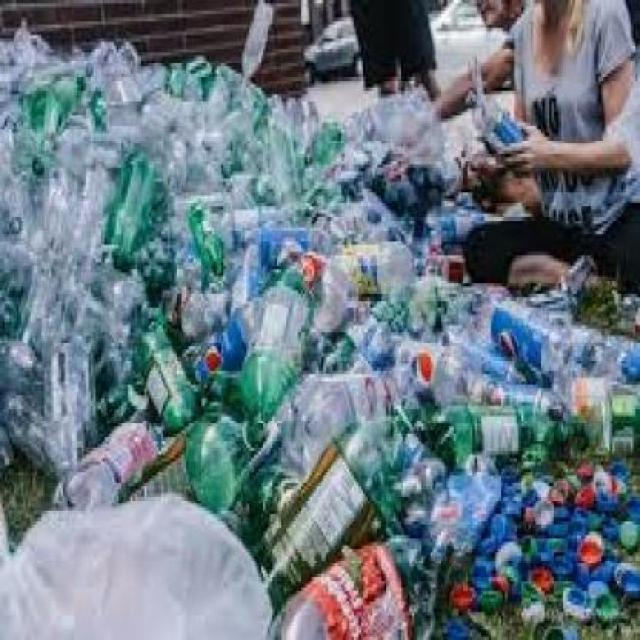garbage: (5, 25, 402, 638), (380, 266, 638, 637)
